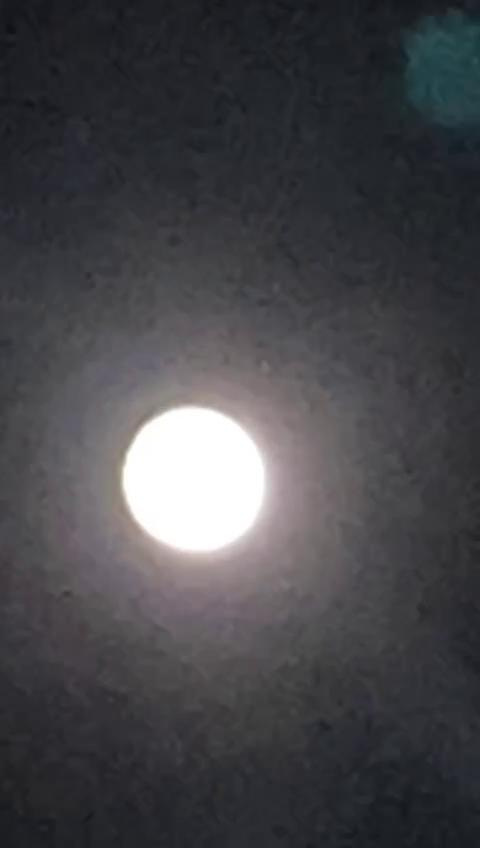moon: (104, 387, 271, 578)
